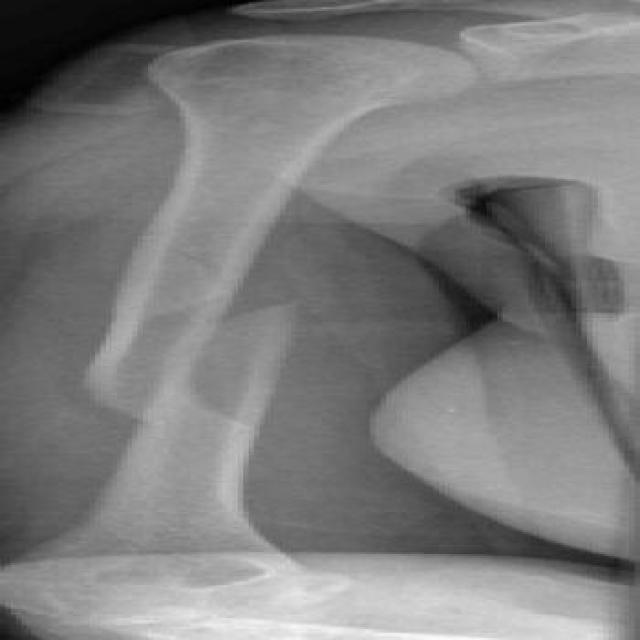fracture: (77, 288, 327, 438)
